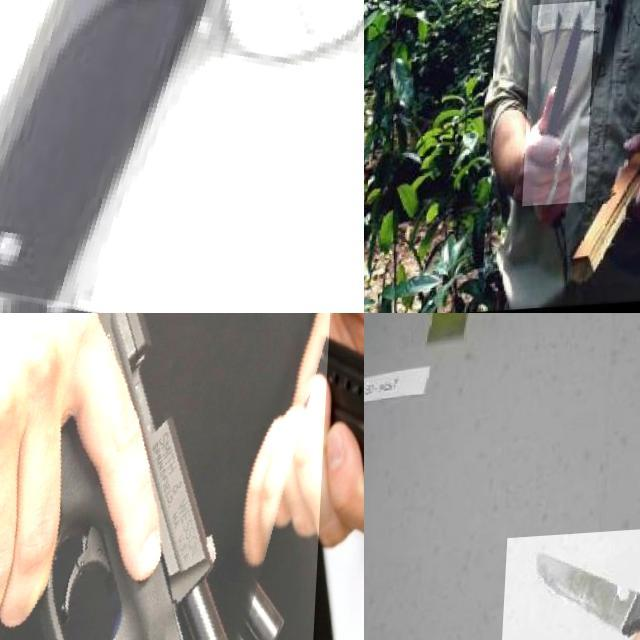-: (504, 527, 640, 640), (528, 6, 599, 210)
gun-knife-thesis - v11 Yolov5 augmented: (0, 0, 364, 313), (0, 313, 339, 640)
